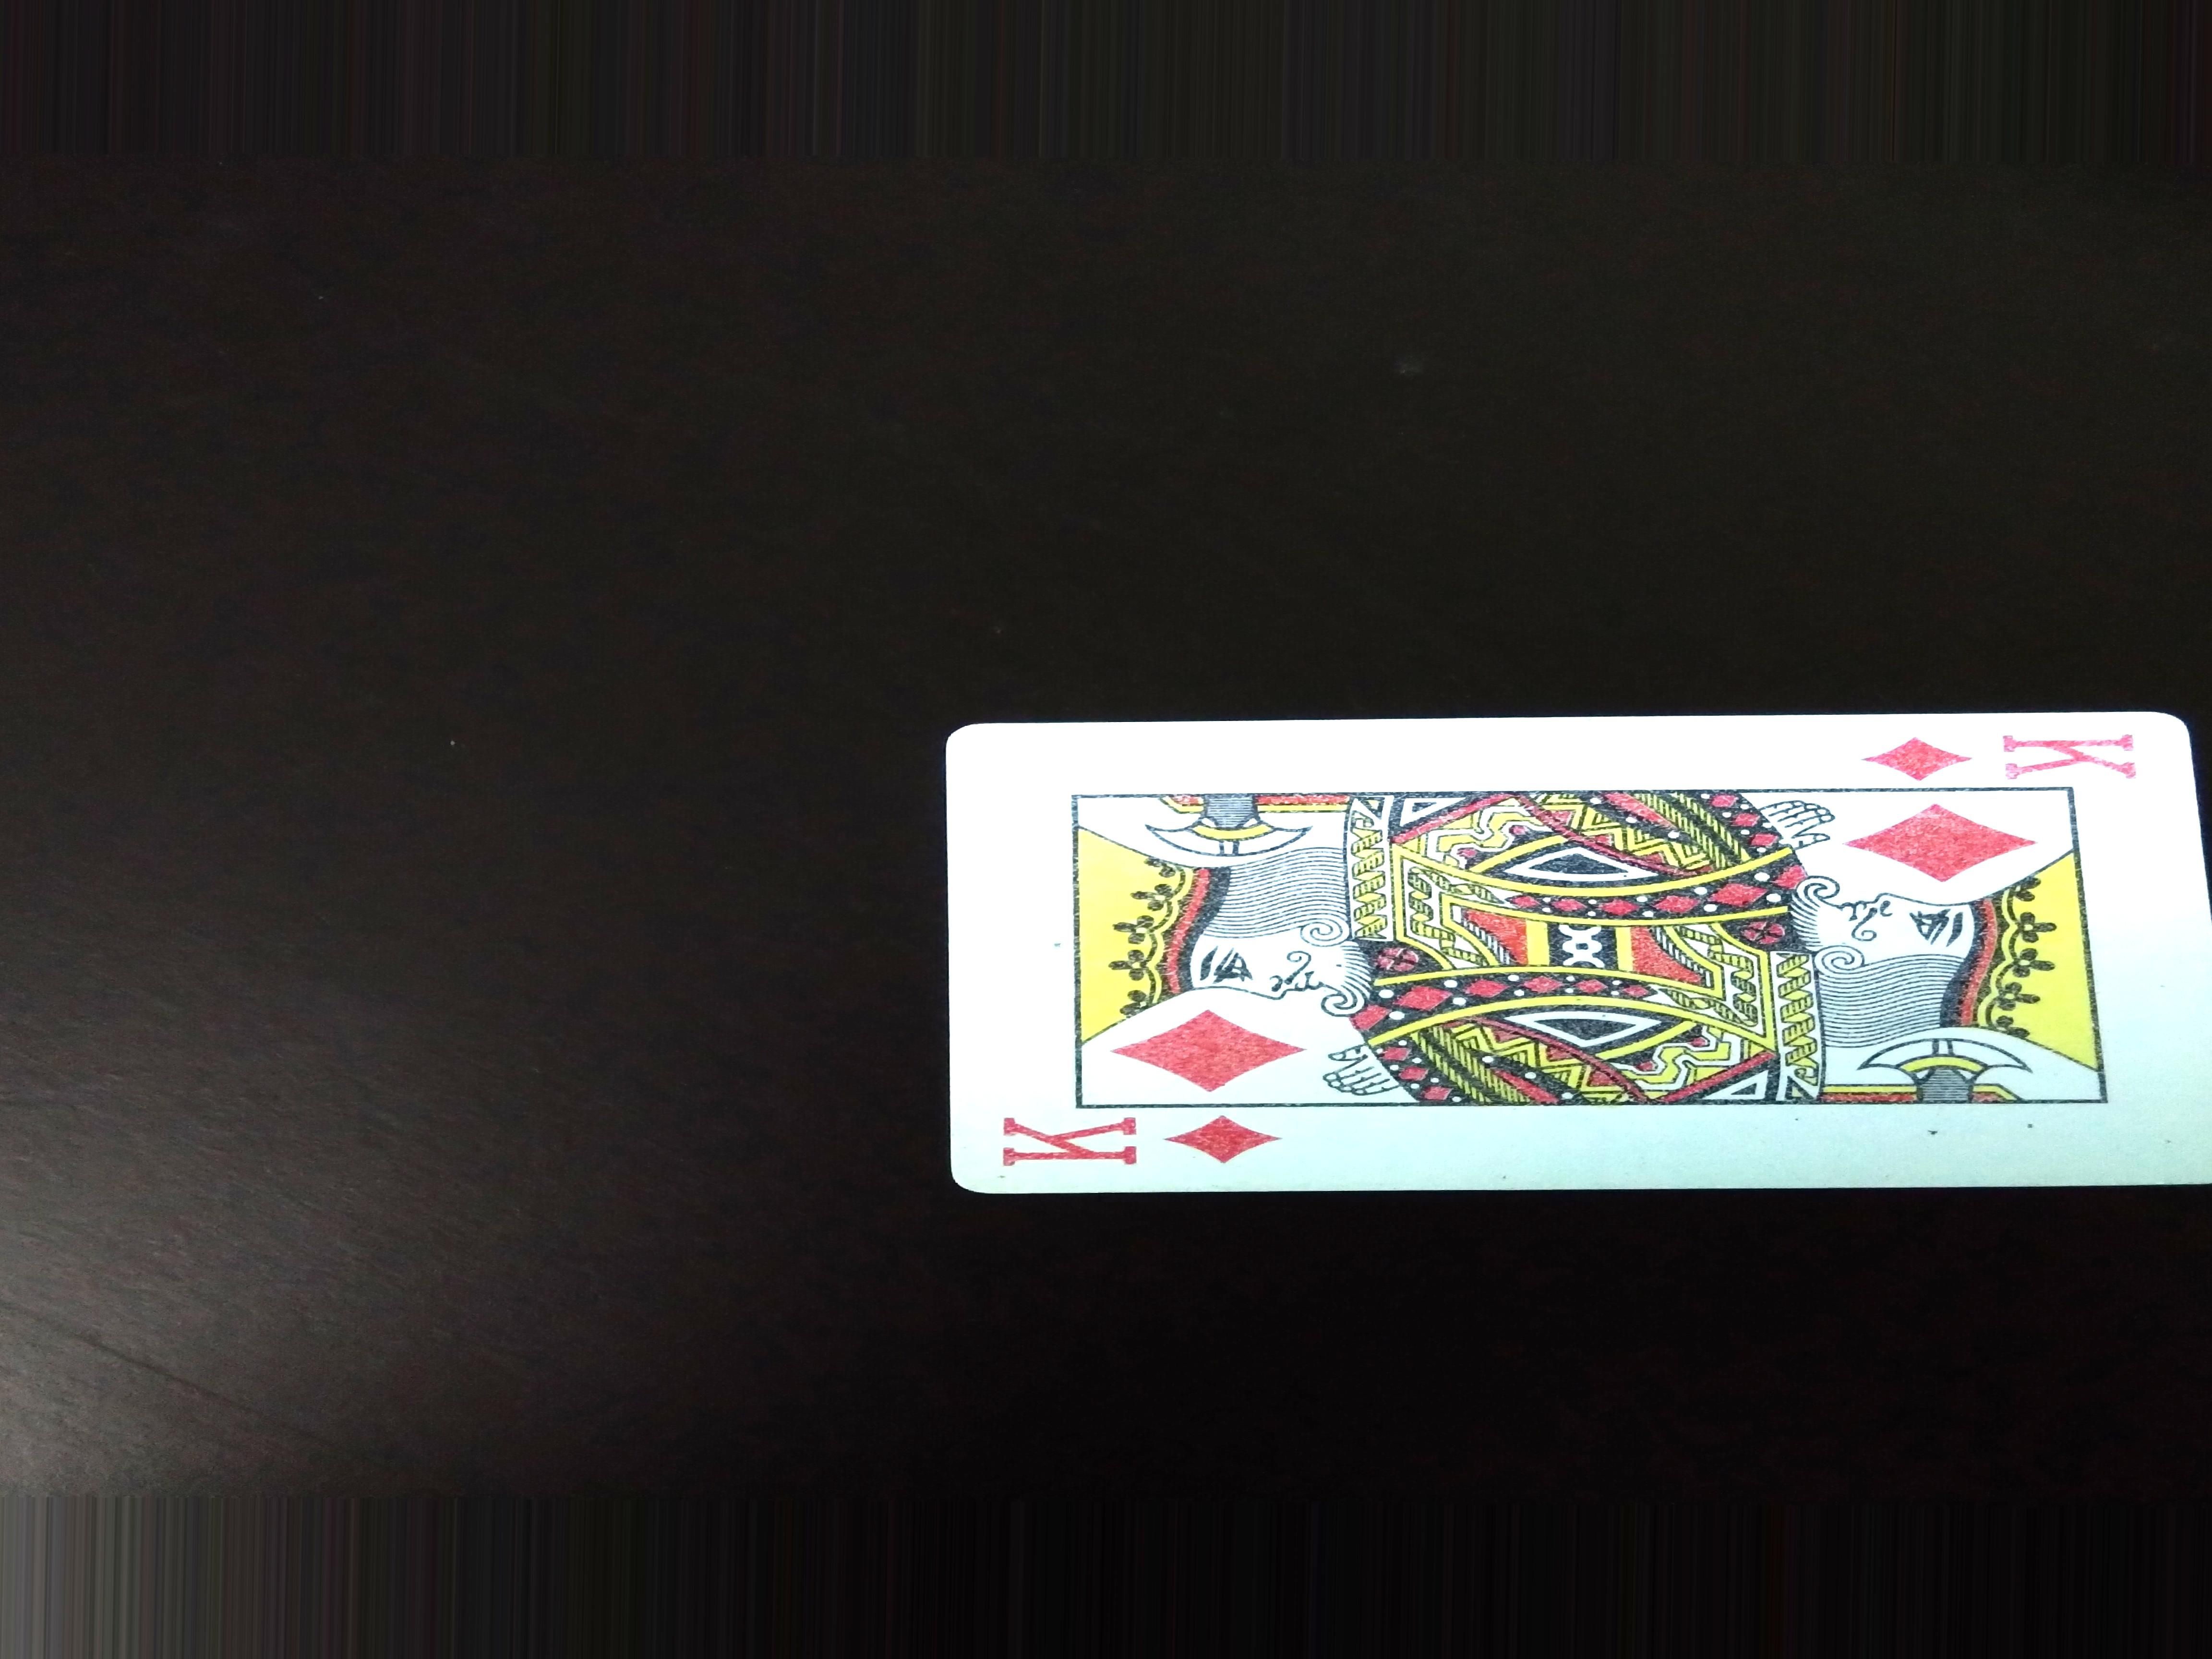KD: (988, 1112, 1292, 1173)
